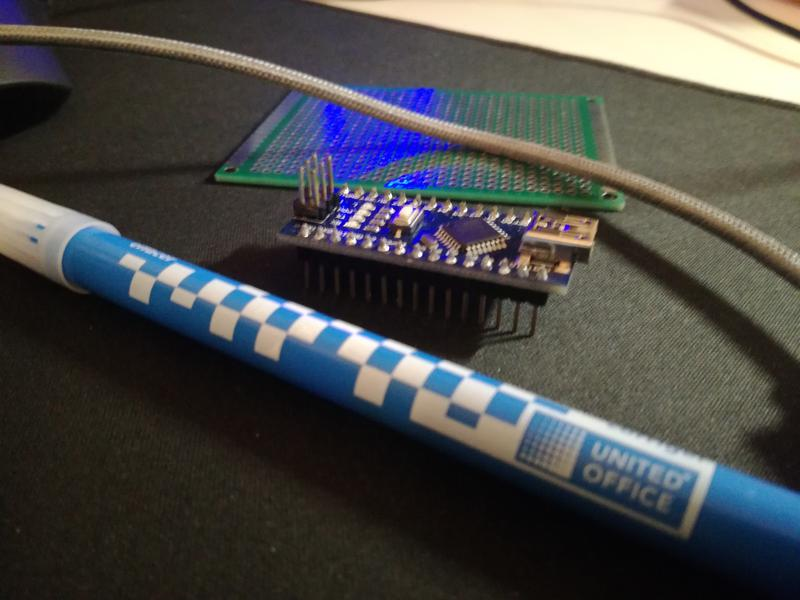Arduino_Nano: (274, 146, 604, 340)
